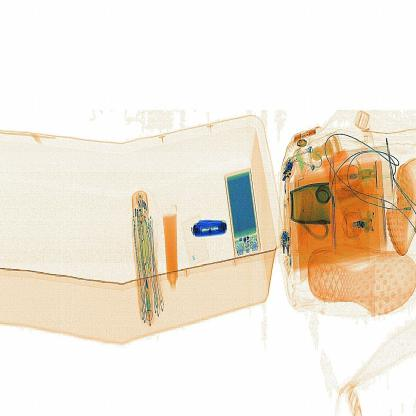scissors: (188, 211, 235, 242)
